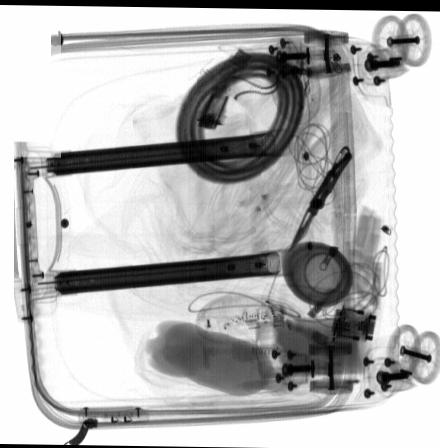Knife: (289, 141, 352, 250)
